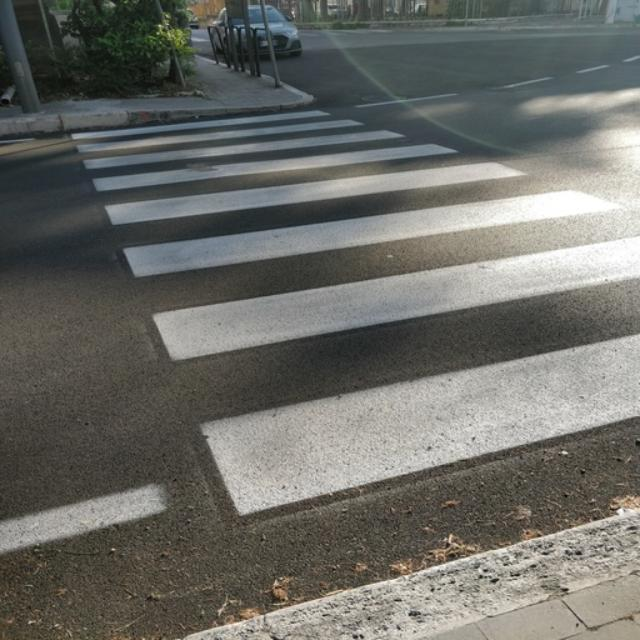sidewalk: (75, 105, 636, 529)
